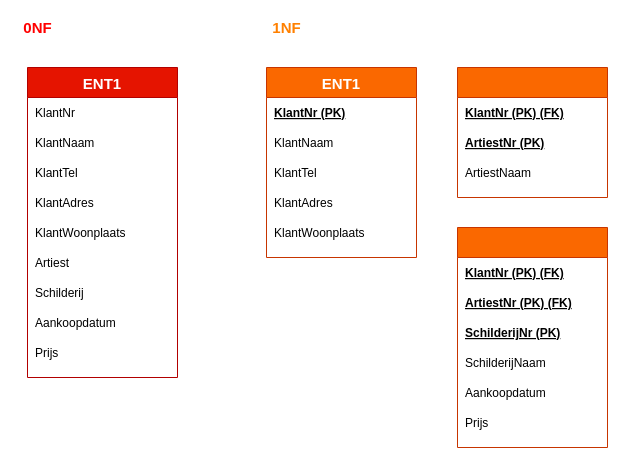
Image size: 625x465. Some labels were removed from this diagram. The box of each missing label's shape, as (x1, y1, x2, y2) in pixels:
ENT2: (456, 66, 608, 198)
ENT3: (456, 226, 608, 448)
